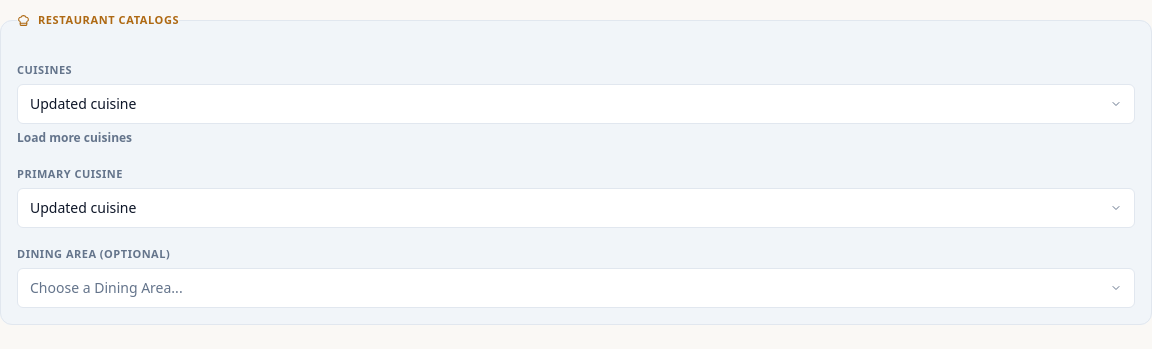
Test case: RestaurantCatalogFields › derives initial cuisines without synchronizing unstable arrays into state
expect the button "Load more cuisines" is shown: met, box [17,130,132,146]
Click the button with aria-label "Cuisines". click: [83, 104]
box: [17,84,1135,124]
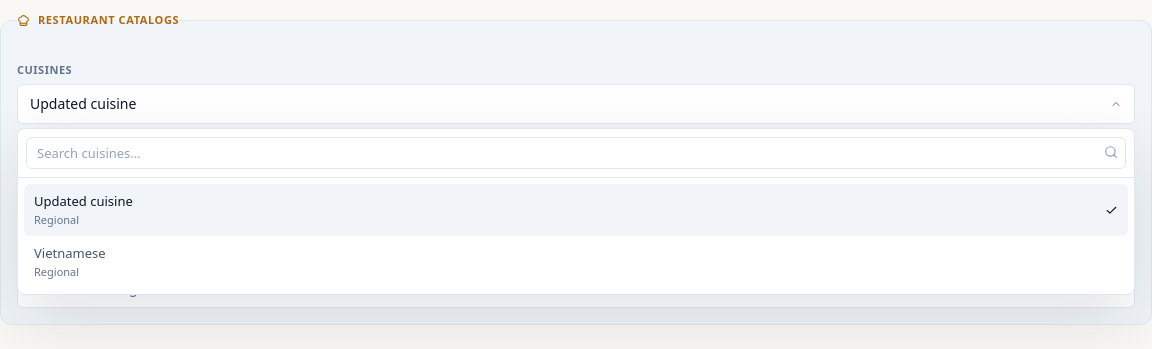
expect the option "Updated cuisine Regional" is shown: met, box [24,184,1128,236]
